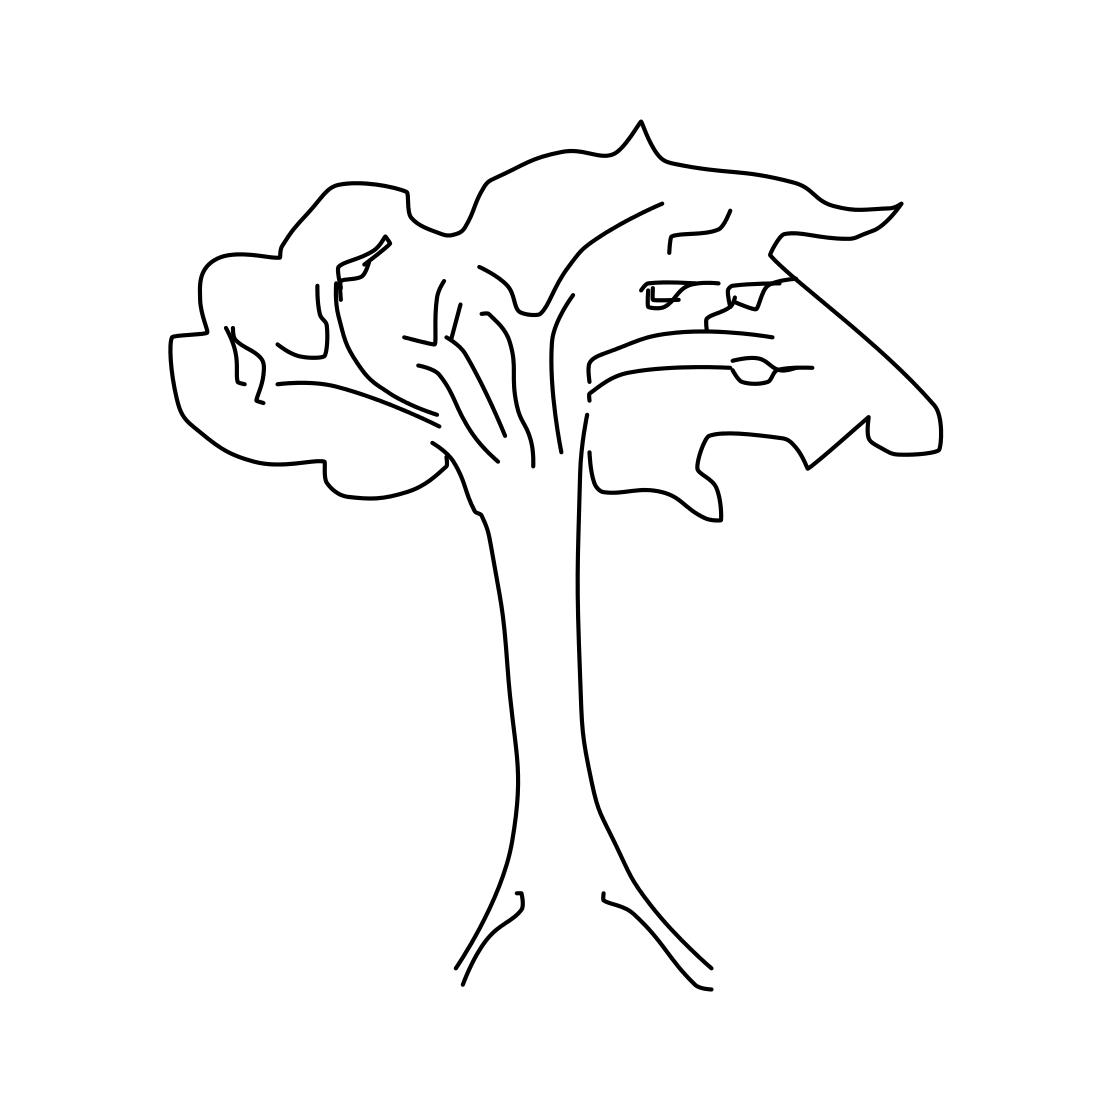Tree: (162, 85, 956, 985)
